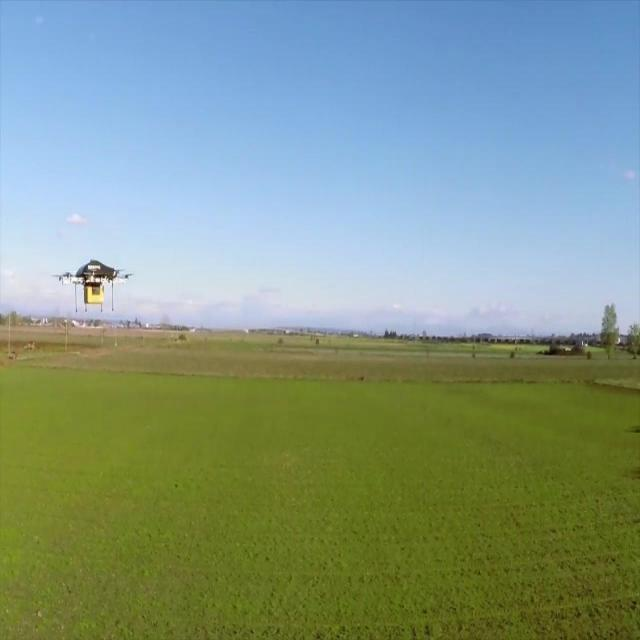UAV: (52, 260, 134, 314)
